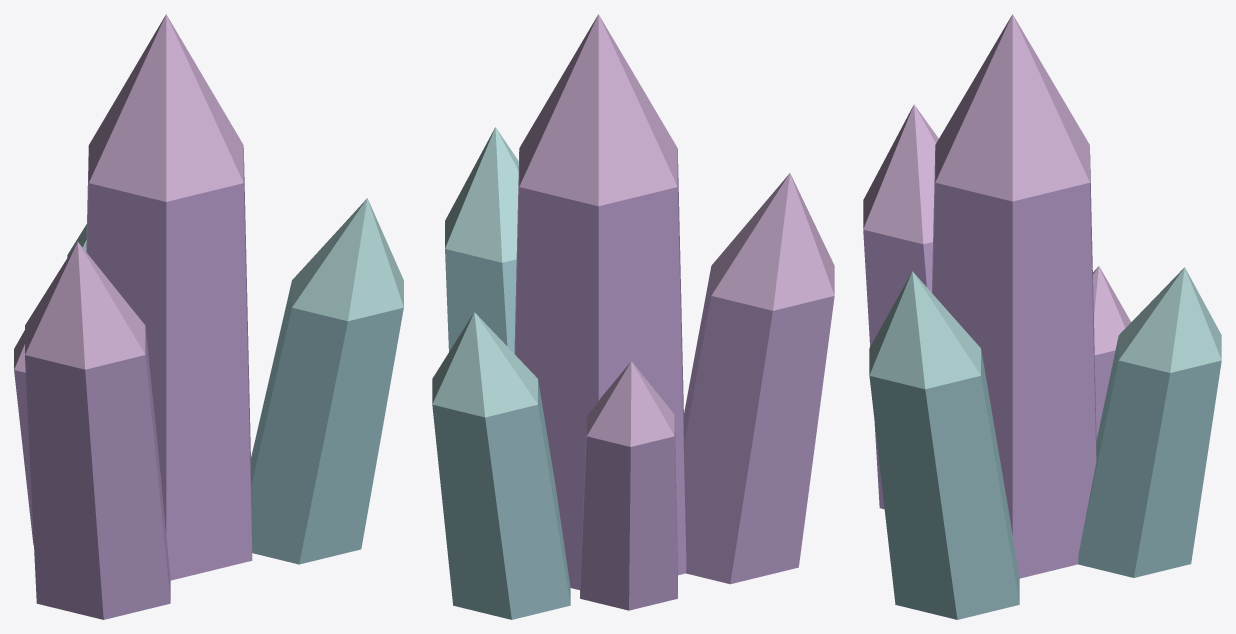
File: crystal.glb
3 renders of one model, left to right at view 1: azimuth 30°, elevation 25°; view 2: azimuth 150°, elevation 25°; view 3: azimuth 270°, elevation 25°, orthographic. The views are drawn at different scales.
Visible parts, largest first — view 1: crystal; view 2: crystal; view 3: crystal.
Boxes of the visible parts, x1,y1,x2,y2 form: crystal: [14, 14, 403, 619]; crystal: [432, 14, 834, 619]; crystal: [863, 14, 1221, 619].
Size of the model in its own units: 0.7943 by 1.05 by 0.6506.
